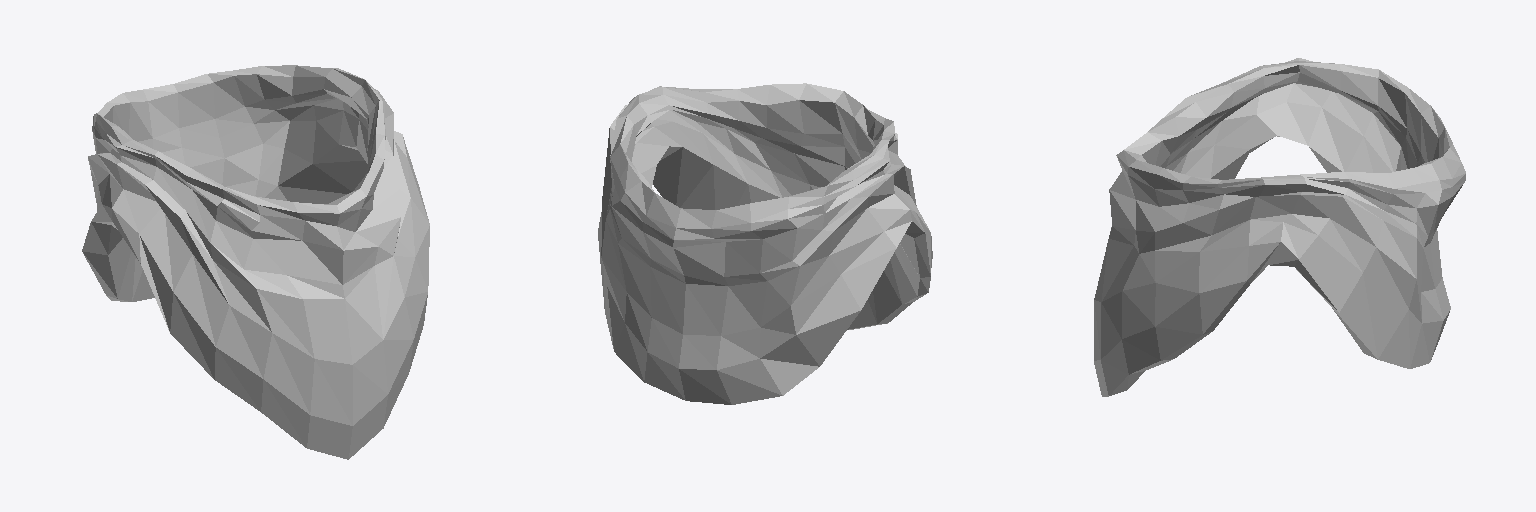
The model's file is scarf.obj.
The picture shows the model from 3 angles: view 1: azimuth 30°, elevation 25°; view 2: azimuth 150°, elevation 25°; view 3: azimuth 270°, elevation 25°; orthographic projection.
Visible parts, largest first — view 1: top.006; view 2: top.006; view 3: top.006.
Boxes of the visible parts, <box> form: top.006: <box>82,65,429,459</box>; top.006: <box>598,83,932,404</box>; top.006: <box>1094,58,1465,396</box>.
Size of the model in its own units: 0.7562 by 0.687 by 0.8312.